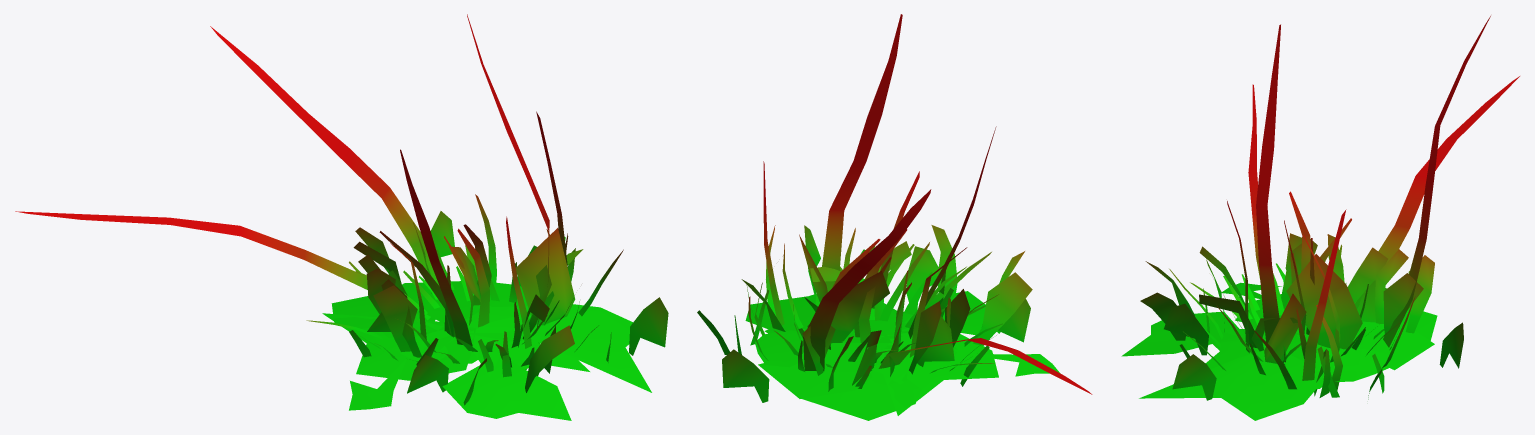
File: Wild Grass_LOD1_Var11_vczndjqja.fbx
The picture shows the model from 3 angles, left to right: view 1: azimuth 30°, elevation 25°; view 2: azimuth 150°, elevation 25°; view 3: azimuth 270°, elevation 25°; orthographic projection. The views are drawn at different scales.
Parts seen in each view (by area): view 1: _srz7_Var11_LOD1; view 2: _srz7_Var11_LOD1; view 3: _srz7_Var11_LOD1.
Part boxes in pixels (x1,y1,x2,y2): _srz7_Var11_LOD1: [15, 14, 668, 420]; _srz7_Var11_LOD1: [697, 14, 1092, 420]; _srz7_Var11_LOD1: [1121, 16, 1519, 420].
Bounding box in the file's own units: 71.76 × 49.3 × 54.54.
